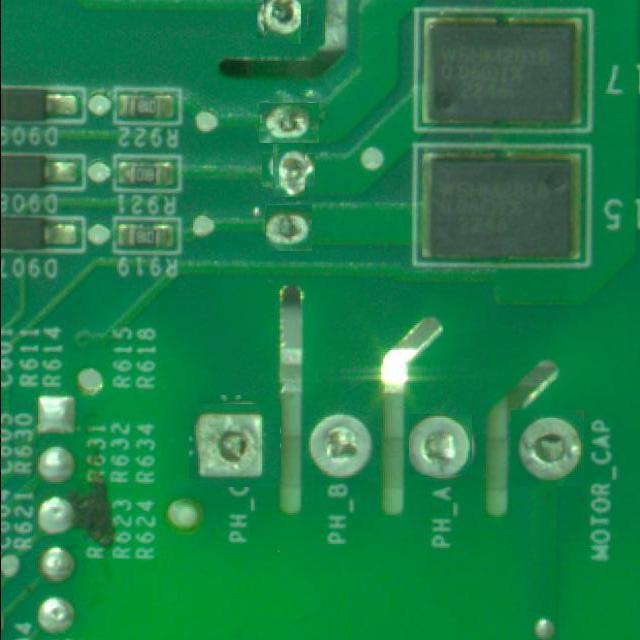lack_of_part: (193, 399, 277, 484), (512, 411, 586, 486), (304, 406, 374, 474), (409, 414, 472, 476), (258, 102, 319, 143), (265, 204, 312, 251), (267, 149, 310, 192), (260, 0, 304, 41)
